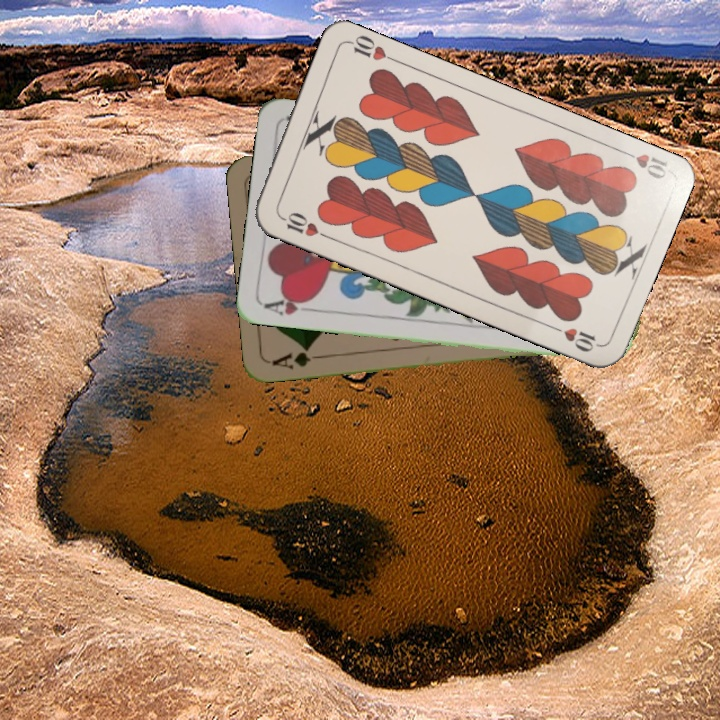GA: (268, 343, 327, 372)
H10: (615, 145, 671, 182), (275, 208, 331, 241)
HA: (260, 291, 320, 318)
